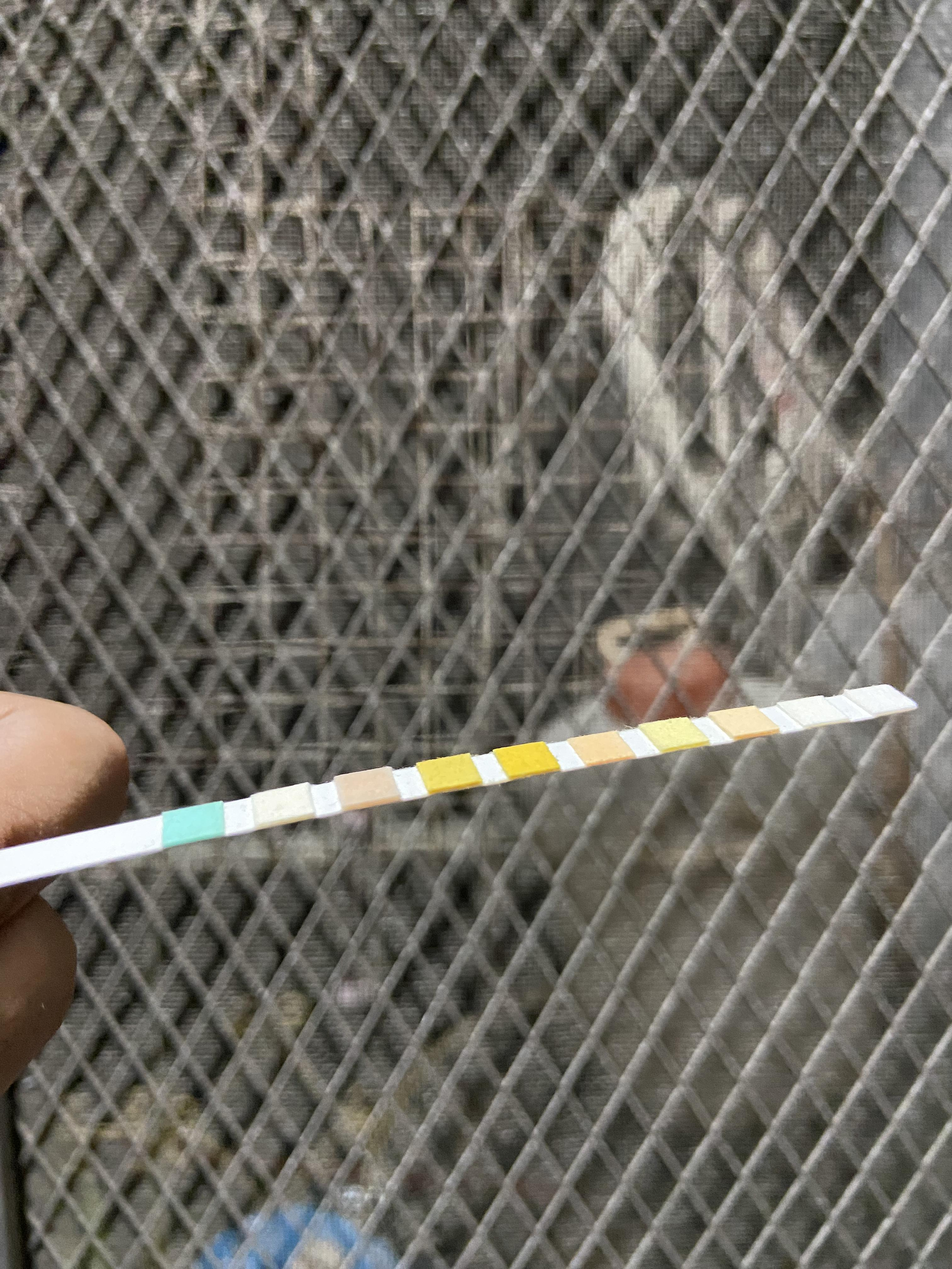Bilirubin: (257, 793, 311, 813)
Blood: (509, 747, 546, 771)
Glucose: (164, 813, 221, 832)
Ketone: (343, 775, 393, 797)
Leukocytes: (871, 688, 894, 709)
Nitrite: (803, 699, 825, 723)
Protein: (662, 721, 690, 745)
SpGravity: (429, 761, 472, 783)
Urobilinogen: (735, 711, 759, 733)
pH: (586, 736, 619, 758)
strip: (1, 684, 917, 886)
